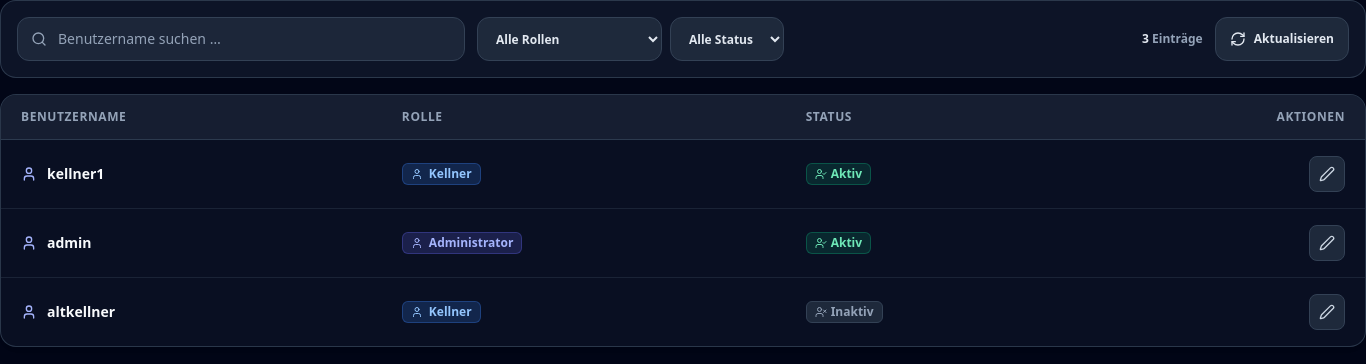
Test: AdminUsersView › filtert nach Aktivitätsstatus
Select "Inaktiv" in the 2nd dropdown named "Status filtern" at (727, 39), box [670,17,784,61]
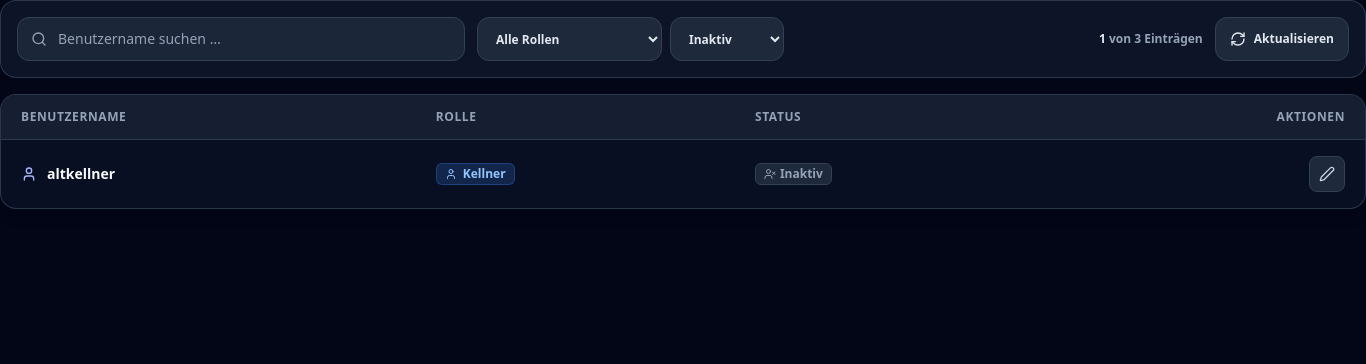
Expected: the text "altkellner" is shown, [47,164,115,184]
Result: the text "kellner1" is gone
